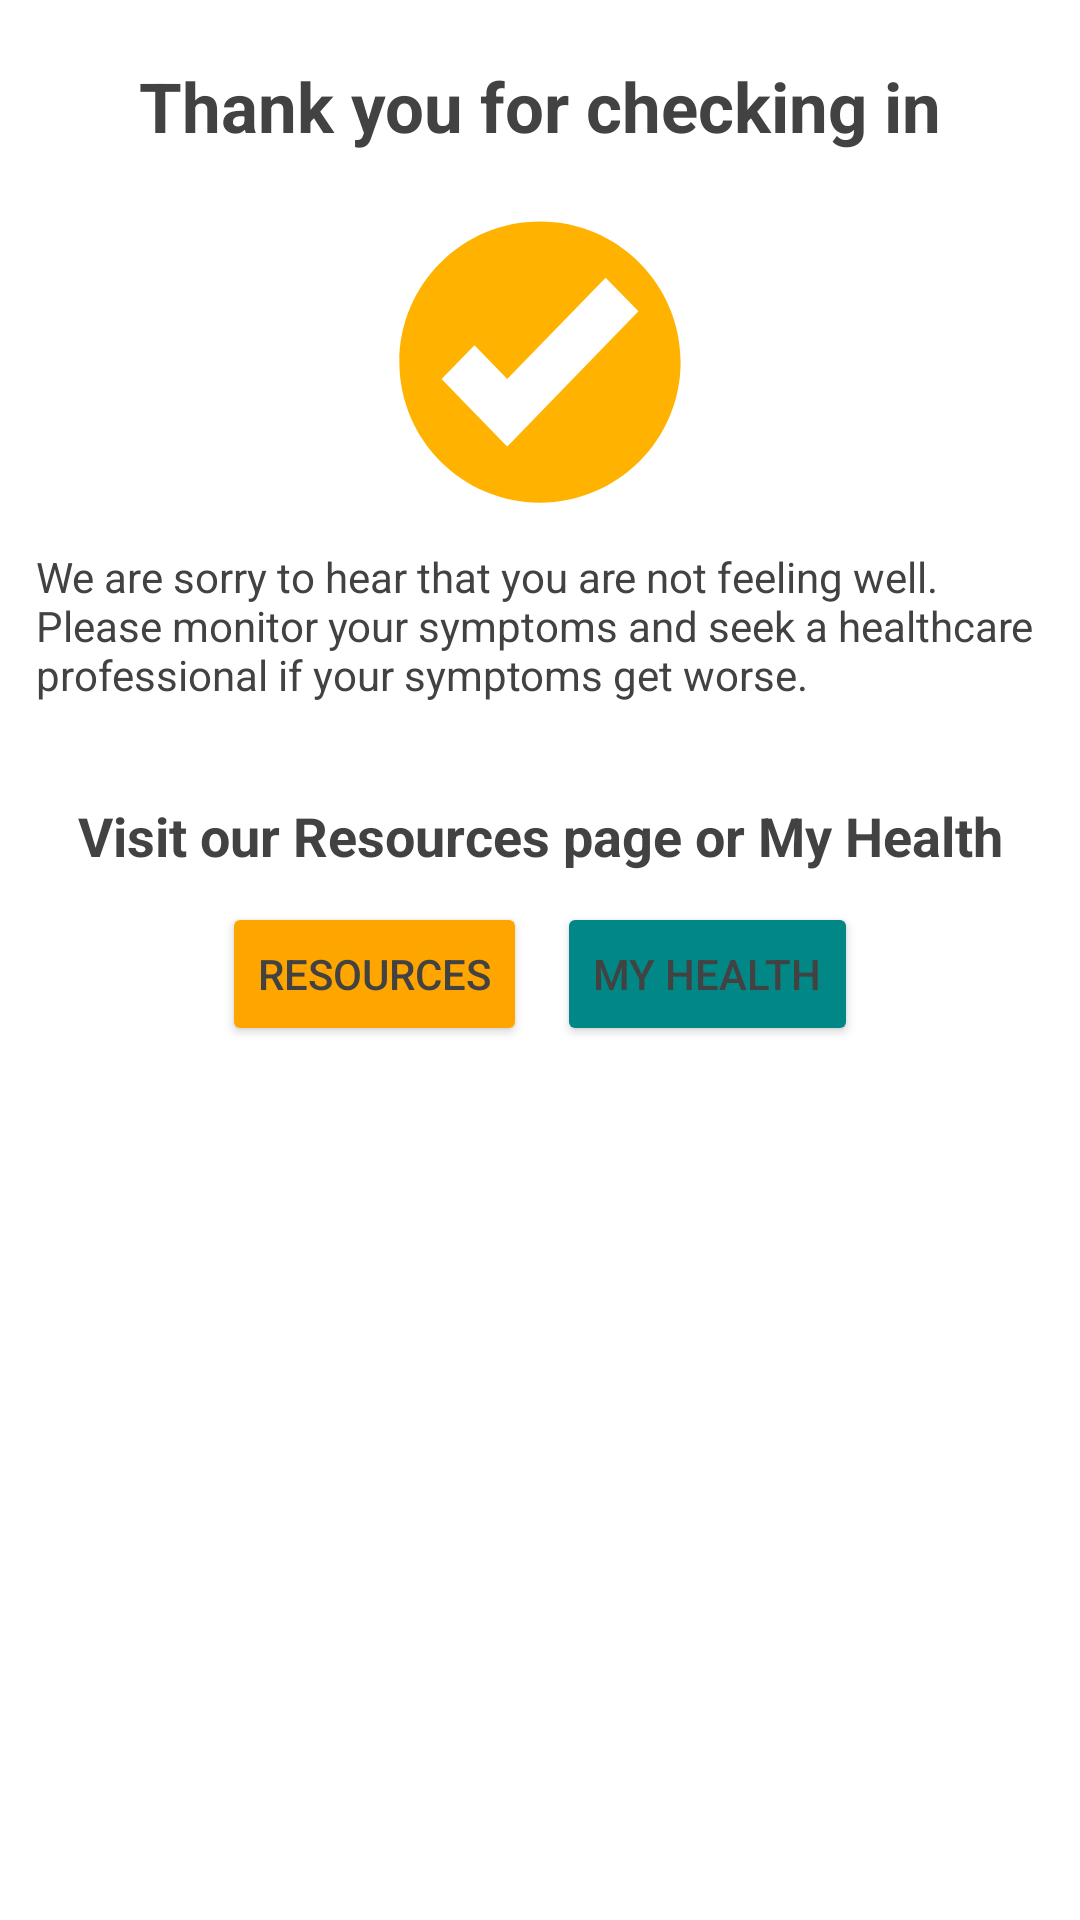

Point at icon controls on the screen. Image size 1080x1920, points as point (x, y).
eo circle amber checkmark: point (540, 362)
